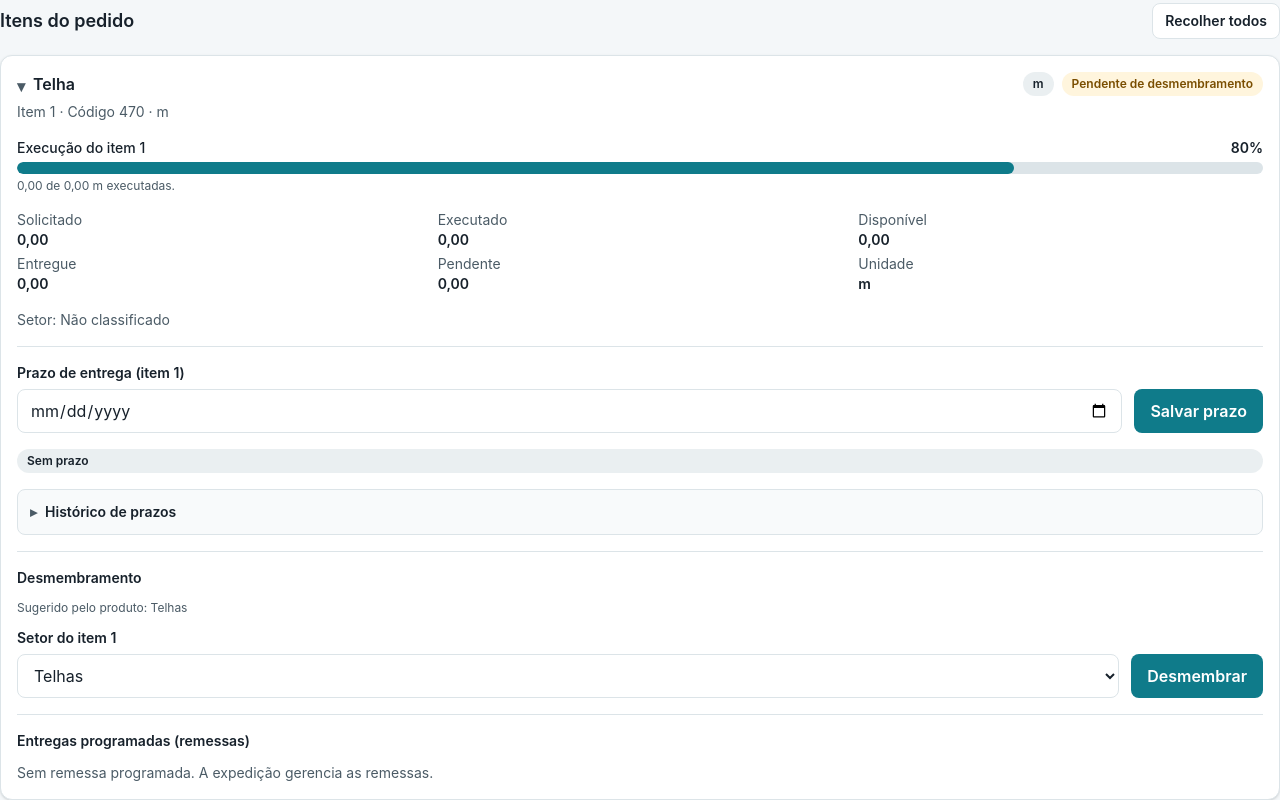
Test case: PedidoVendedorPage › mantém o contexto de retorno após salvar uma alteração no detalhe
This screenshot has width=1280, height=800.
(page scrolled)
Type "2026-03-10" into the date field labelled "Prazo de entrega (item 1)".
click(570, 411); type("2026-03-10")  # box [17, 389, 1122, 433]
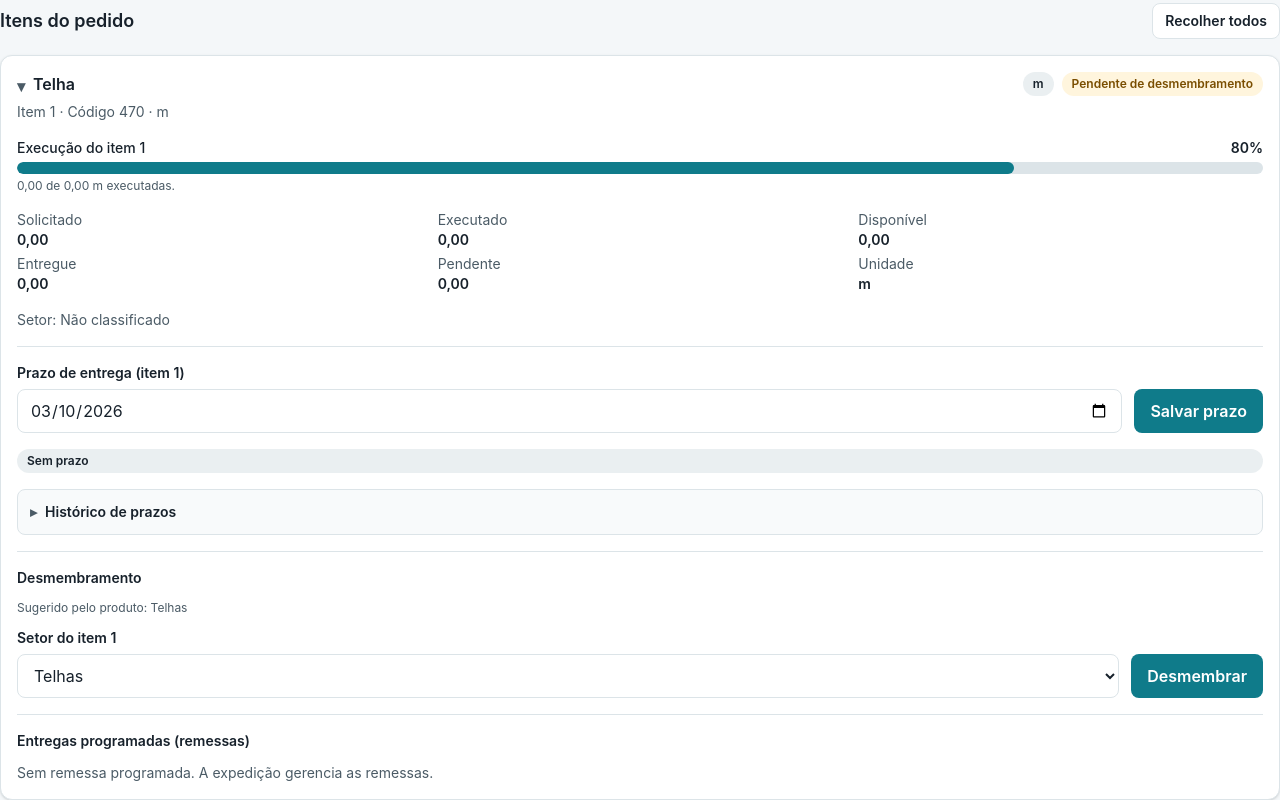
Click the button with aria-label "Salvar prazo de entrega (item 1)".
click(1199, 411)  # box [1134, 389, 1263, 433]
(page scrolled)
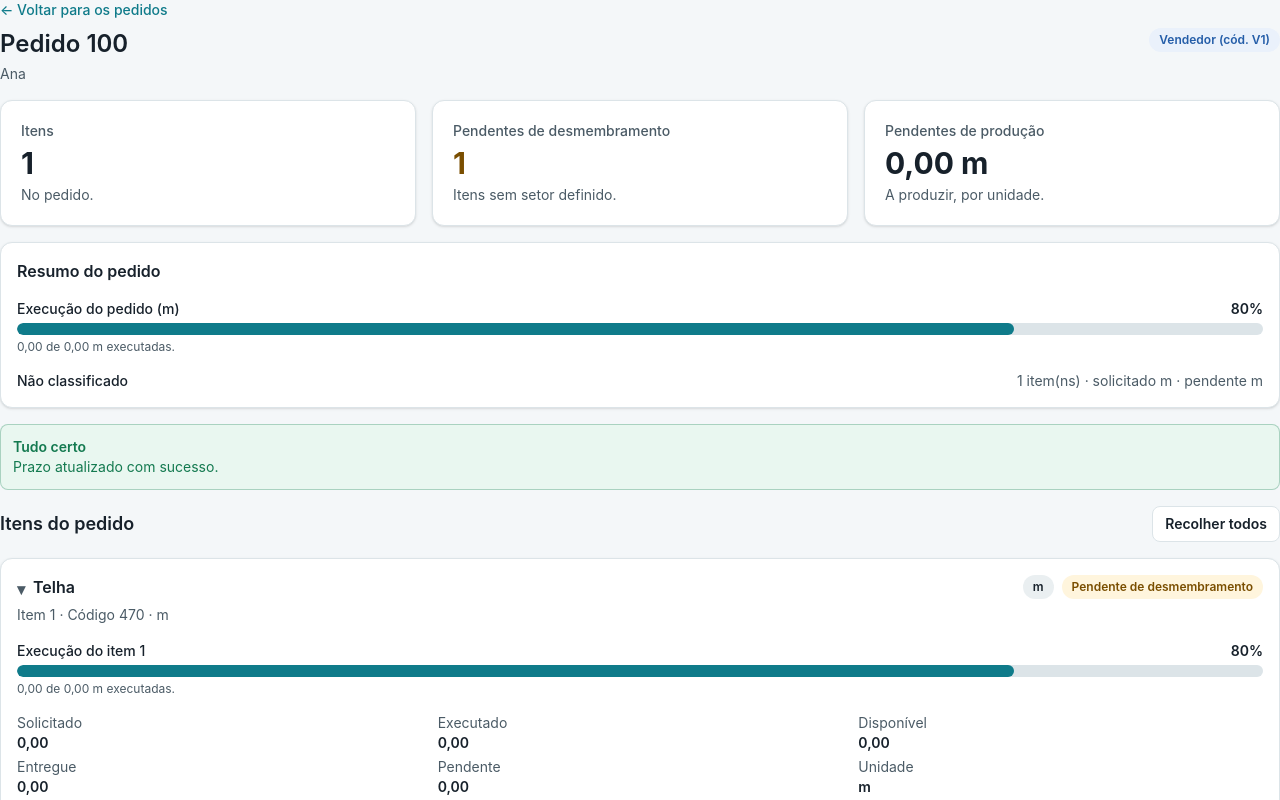
Expected: the text "Prazo atualizado com sucesso." is shown, [13, 457, 218, 477]
